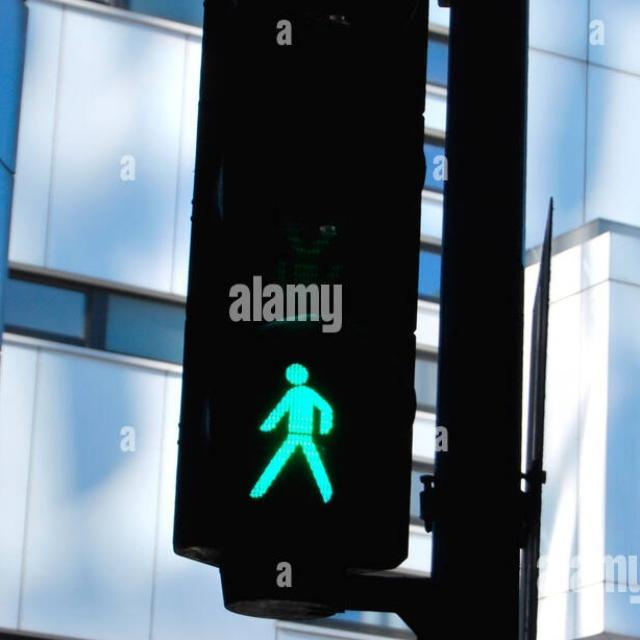green-light: (230, 344, 356, 520)
